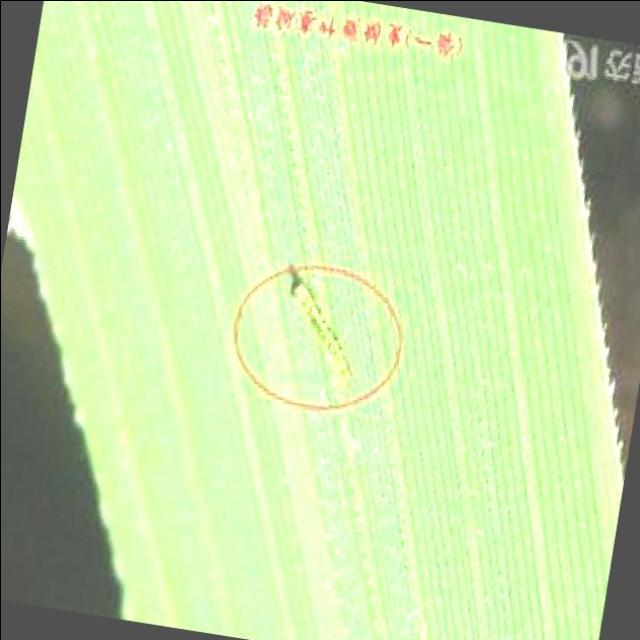leaf folder: (290, 269, 350, 380)
